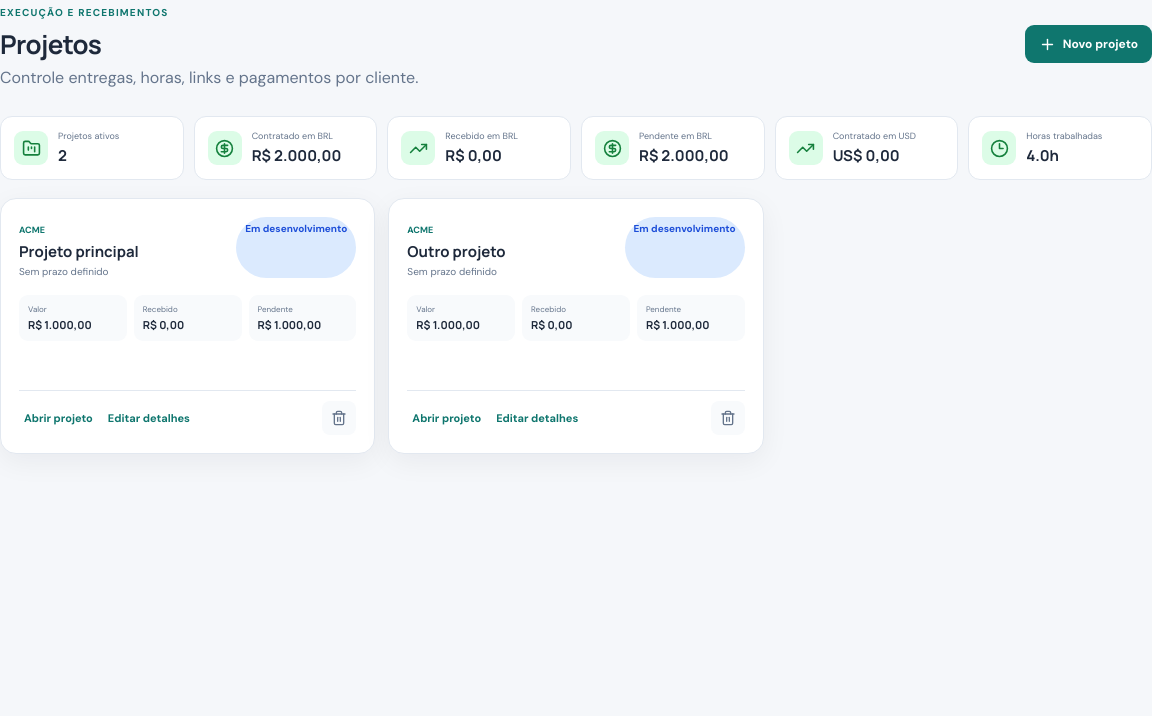
Scenario: proteção de alterações não salvas no planejamento › inicia planning vazio limpo, ativa dirty com alteração real e limpa ao restaurar
The image size is (1152, 716).
Click the button "Abrir projeto" below "Projeto principal" at (58, 418), box [19, 406, 98, 430]
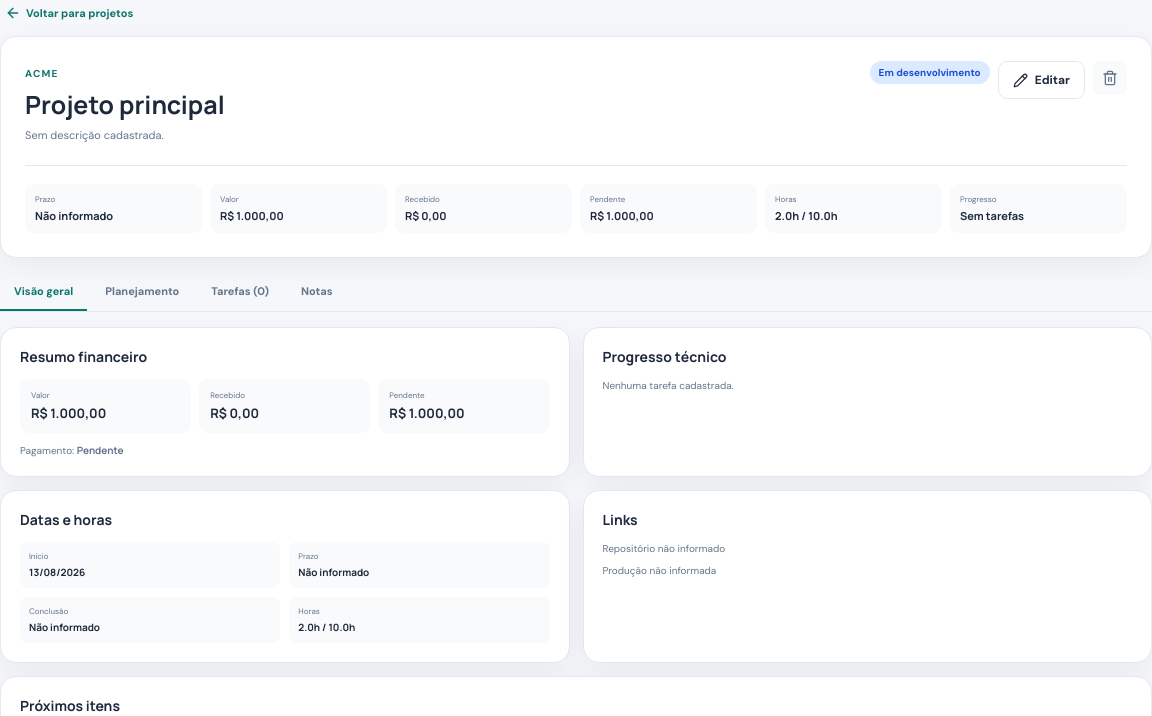
Click the tab "Planejamento" at (142, 292), box [91, 273, 193, 311]
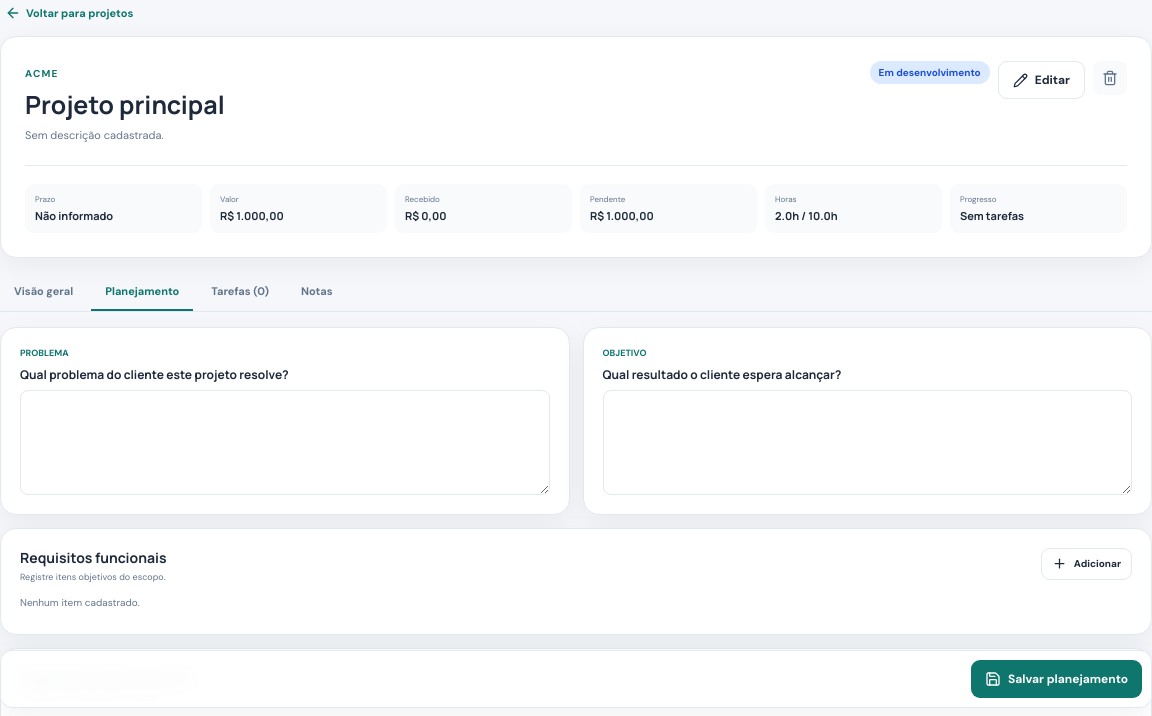
Expected: the text "● Alterações não salvas" is not shown
Type "Texto temporário" into the text box labelled "Problema Qual problema do cliente este projeto resolve?" at (285, 442), box [20, 390, 550, 495]
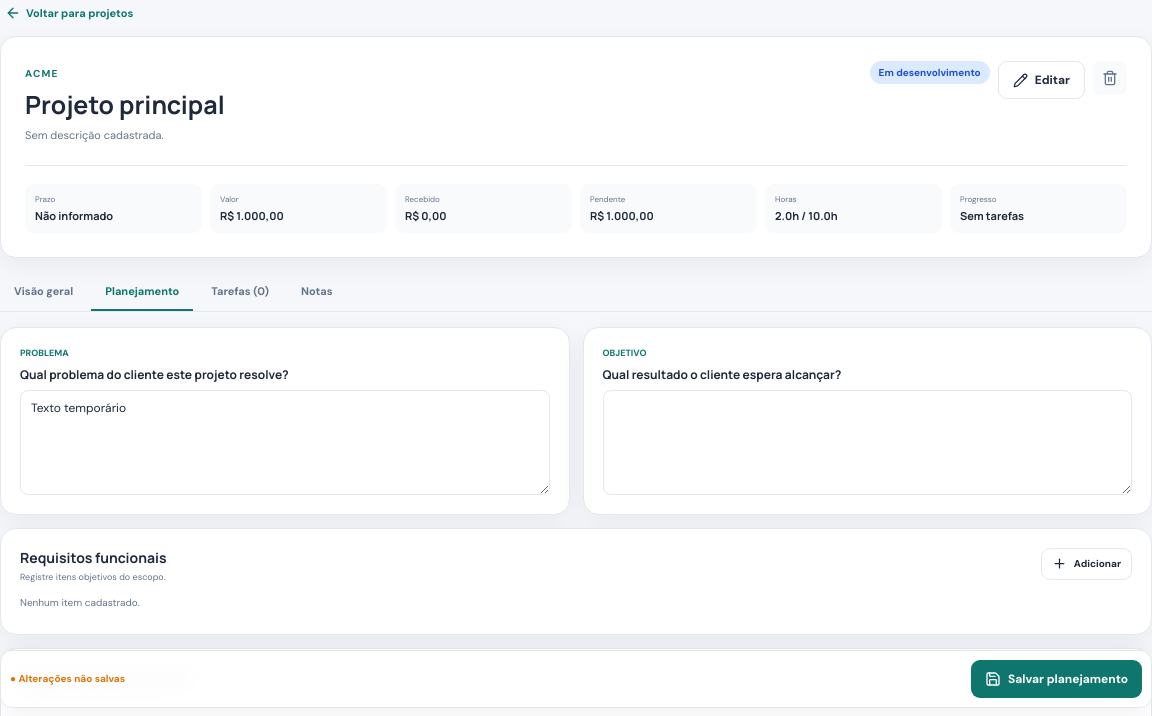
Now the text "● Alterações não salvas" is shown, box [10, 672, 125, 686]
Clear the text box labelled "Problema Qual problema do cliente este projeto resolve?" at (285, 442), box [20, 390, 550, 495]
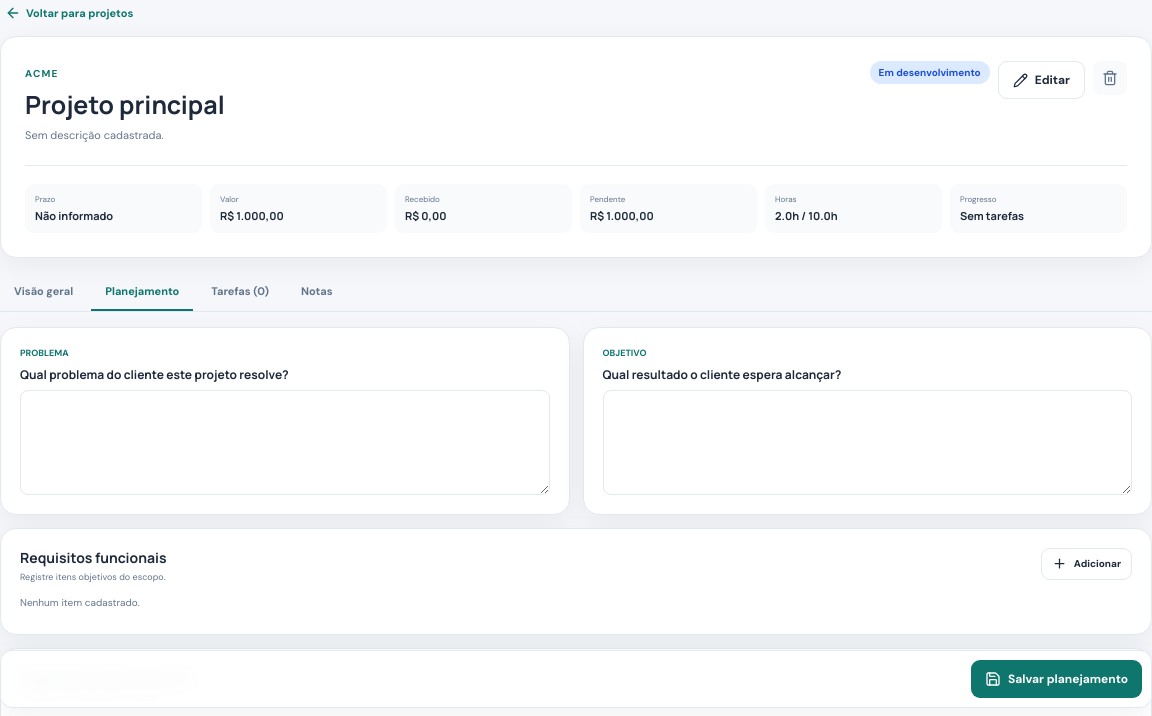
Now the text "● Alterações não salvas" is gone
